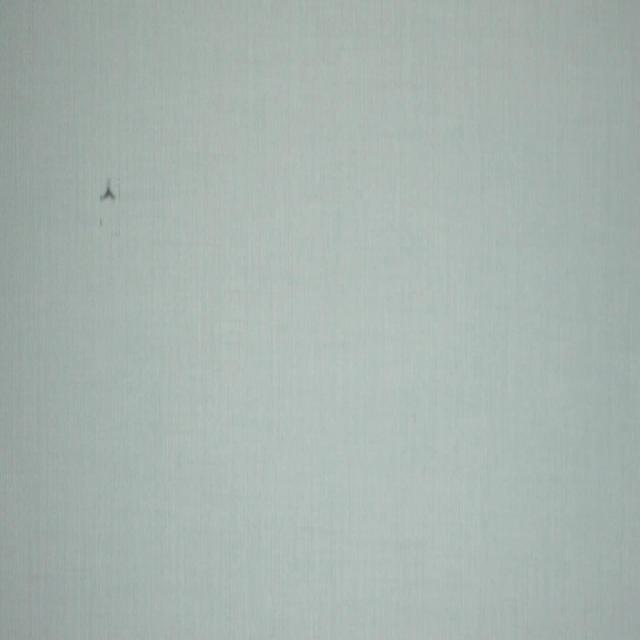dirty: (100, 178, 118, 202)
